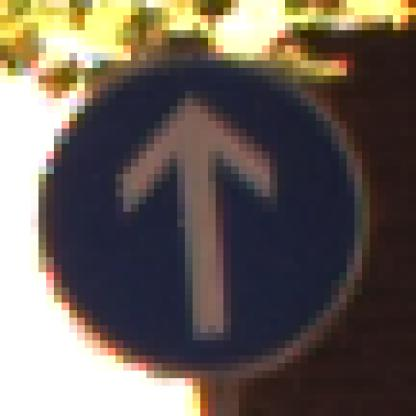AheadOnly: (40, 47, 379, 380)
